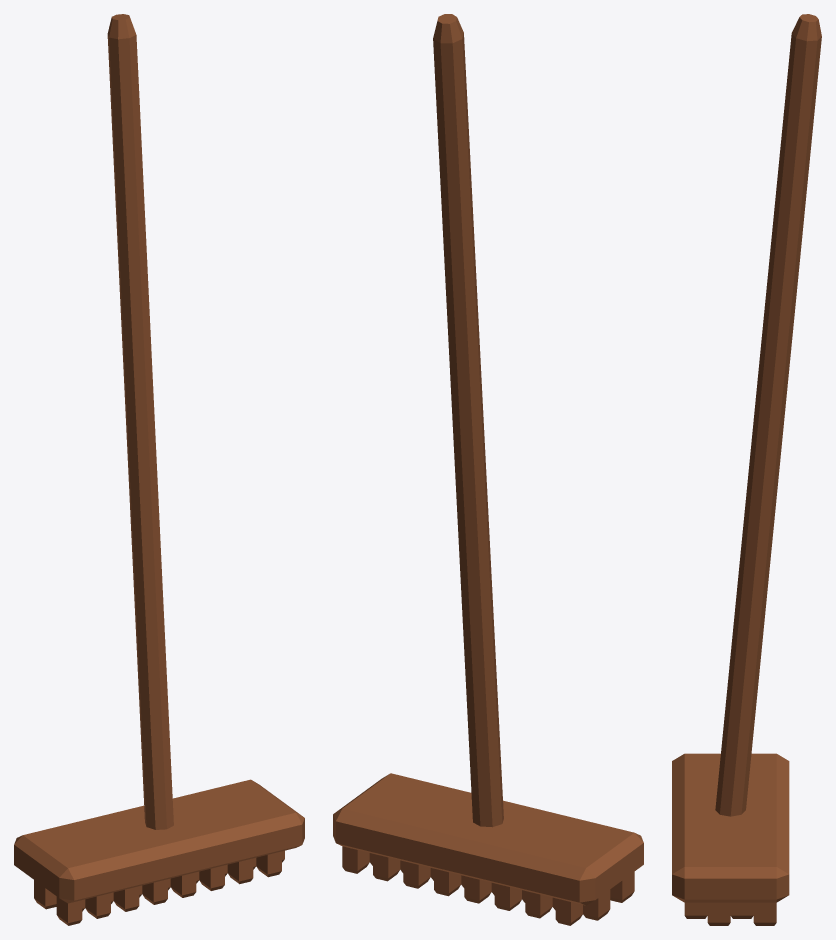
The model's file is broom.gltf.
The picture shows the model from 3 angles, left to right: view 1: azimuth 30°, elevation 25°; view 2: azimuth 150°, elevation 25°; view 3: azimuth 270°, elevation 25°; orthographic projection. The views are drawn at different scales.
Visible parts, largest first — view 1: Broom; view 2: Broom; view 3: Broom.
Boxes of the visible parts, box(x1,y1,x2,y2) form: Broom: box(14, 14, 304, 925); Broom: box(333, 14, 643, 925); Broom: box(672, 14, 821, 925).
Bounding box in the file's own units: 1.63 × 5.33 × 0.8486.
